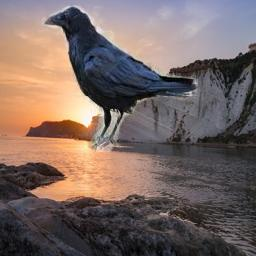Crow: (42, 6, 198, 153)
